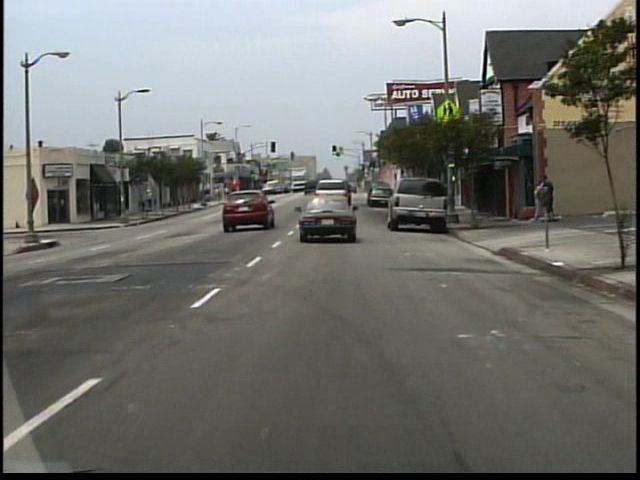person: (542, 176, 555, 221), (533, 179, 545, 224), (146, 188, 156, 214)
